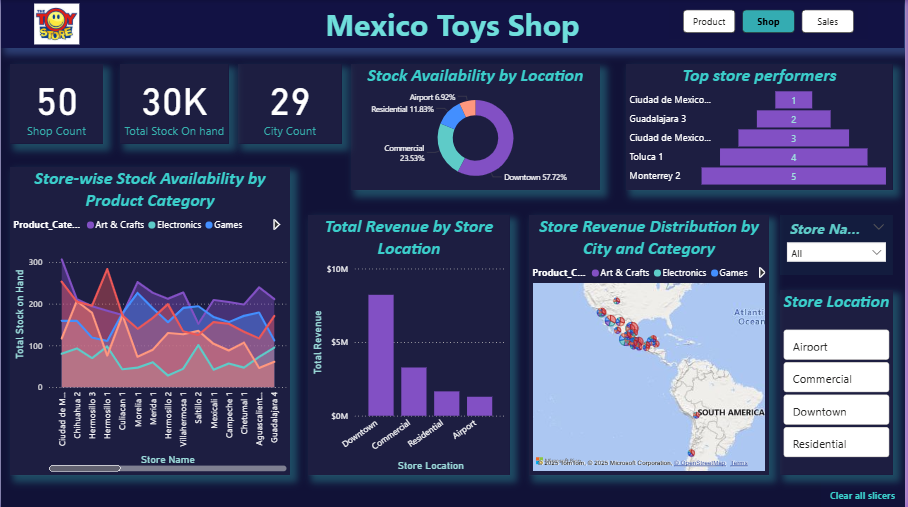

This screenshot's page, from the dashboard's own definition file:
{"tool":"powerbi","page":{"name":"Shop","canvas":[1280,720],"ordinal":6},"visuals":[{"type":"textbox","box":[0,0,1280.2,67.7],"z":0},{"type":"actionButton","box":[1162.1,682.6,118.1,37.4],"z":1000},{"type":"pageNavigator","box":[663.3,9.9,428,58.1],"z":2000},{"type":"donutChart","title":"Stock Availability by Location","fields":{"Category":["stores.Store_Location"],"Y":["Sum(inventory.Stock_On_Hand)"]},"box":[178.6,89.3,401.8,195.8],"z":3000},{"type":"card","fields":{"Values":["Measure Table.Total Units On hand"]},"box":[8.6,195.8,159.8,89.3],"z":4000},{"type":"card","fields":{"Values":["CountNonNull(stores.Store_ID)"]},"box":[8.6,89.3,159.8,90.7],"z":5000},{"type":"card","fields":{"Values":["Count(stores.Store_City)"]},"box":[8.6,296.6,159.8,89.3],"z":6000},{"type":"map","title":"Store Revenue Distribution by City and Category","fields":{"Category":["stores.Store_City"],"Size":["Measure Table.Total Revenue"],"Series":["products.Product_Category"]},"box":[931.7,89.3,348.5,593.3],"z":7000},{"type":"funnel","title":"Top store performers","fields":{"Category":["stores.Store_Name"],"Y":["Measure Table.Store Rank"]},"box":[597.6,89.3,322.6,195.8],"z":8000},{"type":"clusteredColumnChart","title":"Total Revenue by Store Location","fields":{"Category":["stores.Store_Location"],"Y":["Measure Table.Total Revenue"]},"box":[597.6,296.6,322.6,385.9],"z":9000},{"type":"areaChart","title":"Store-wise Stock Availability by Product Category","fields":{"Category":["stores.Store_Name"],"Y":["Sum(inventory.Stock_On_Hand)"],"Series":["products.Product_Category"]},"box":[178.6,296.6,401.8,385.9],"z":10000},{"type":"advancedSlicerVisual","title":"Store Location","fields":{"Values":["stores.Store_Location"]},"box":[8.6,398.9,159.8,283.7],"z":11000},{"type":"image","box":[0,0,157.3,68],"z":12000},{"type":"slicer","title":"Store Name","fields":{"Values":["stores.Store_Name"]},"box":[1109.8,0,170.1,97.8],"z":13000}]}

Visuals, with their boxes in screenshot pixels (x1, y1, x2, y2), scaled from the page's 1280x720 canvas onto the 908x507 screenshot:
textbox: {"left": 0, "top": 0, "right": 907, "bottom": 48}
actionButton: {"left": 824, "top": 481, "right": 907, "bottom": 506}
pageNavigator: {"left": 471, "top": 7, "right": 774, "bottom": 48}
"Stock Availability by Location" donutChart: {"left": 127, "top": 63, "right": 412, "bottom": 201}
card - Measure Table.Total Units On hand: {"left": 6, "top": 138, "right": 119, "bottom": 201}
card - CountNonNull(stores.Store_ID): {"left": 6, "top": 63, "right": 119, "bottom": 127}
card - Count(stores.Store_City): {"left": 6, "top": 209, "right": 119, "bottom": 272}
"Store Revenue Distribution by City and Category" map: {"left": 661, "top": 63, "right": 907, "bottom": 481}
"Top store performers" funnel: {"left": 424, "top": 63, "right": 653, "bottom": 201}
"Total Revenue by Store Location" clusteredColumnChart: {"left": 424, "top": 209, "right": 653, "bottom": 481}
"Store-wise Stock Availability by Product Category" areaChart: {"left": 127, "top": 209, "right": 412, "bottom": 481}
"Store Location" advancedSlicerVisual: {"left": 6, "top": 281, "right": 119, "bottom": 481}
image: {"left": 0, "top": 0, "right": 112, "bottom": 48}
"Store Name" slicer: {"left": 787, "top": 0, "right": 907, "bottom": 69}
